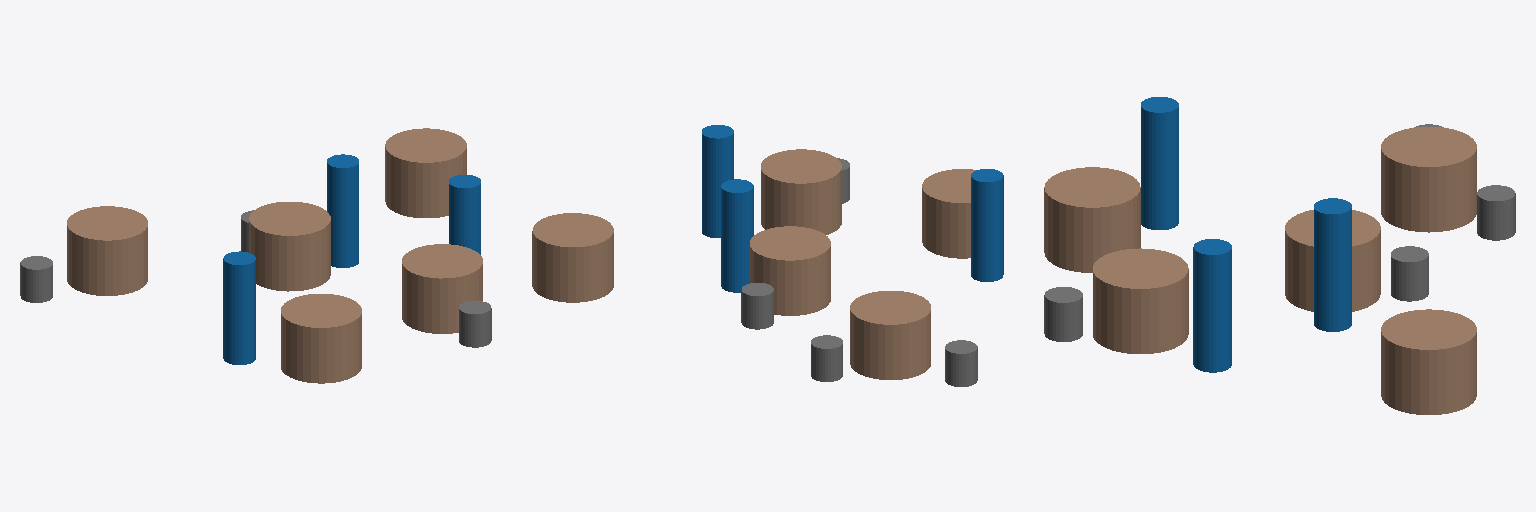
The robot description file, URDF, robot "Obstacles":
<?xml version="1.0" encoding="utf-8"?>
<robot name="Obstacles">
  <material name="table_color">
    <color rgba="0.686 0.553 0.459 1.0"/>
  </material>

  <material name="chair_color">
    <color rgba="0.5 0.5 0.5 1.0"/>
  </material>

  <material name="person_color">
    <color rgba="0.122 0.467 0.706 1.0"/>
  </material>

  <link name="obstacle_base_link"></link>

  <link name="table1_link">
    <visual>
      <origin rpy="0 0 0" xyz="1.5 1.0 0.375"/>
      <geometry>
        <cylinder length="0.75" radius="0.5"/>
      </geometry>
      <material name="table_color"/>
    </visual>
    <collision>
      <origin rpy="0 0 0" xyz="1.5 1.0 0.375"/>
      <geometry>
        <cylinder length="0.75" radius="0.5"/>
      </geometry>
    </collision>
  </link>
  <joint name="table1_link_joint" type="fixed">
    <parent link="obstacle_base_link"/>
    <child link="table1_link"/>
    <origin rpy="0 0 0" xyz="0 0 0"/>
  </joint>

  <link name="chair1_1_link">
    <visual>
      <origin rpy="0 0 0" xyz="0.5 1.0 0.225"/>
      <geometry>
        <cylinder length="0.45" radius="0.2"/>
      </geometry>
      <material name="chair_color"/>
    </visual>
    <collision>
      <origin rpy="0 0 0" xyz="0.5 1.0 0.225"/>
      <geometry>
        <cylinder length="0.45" radius="0.2"/>
      </geometry>
    </collision>
  </link>
  <joint name="chair1_1_link_joint" type="fixed">
    <parent link="obstacle_base_link"/>
    <child link="chair1_1_link"/>
    <origin rpy="0 0 0" xyz="0 0 0"/>
  </joint>

  <link name="chair1_2_link">
    <visual>
      <origin rpy="0 0 0" xyz="2.0 1.7 0.225"/>
      <geometry>
        <cylinder length="0.45" radius="0.2"/>
      </geometry>
      <material name="chair_color"/>
    </visual>
    <collision>
      <origin rpy="0 0 0" xyz="2.0 1.7 0.225"/>
      <geometry>
        <cylinder length="0.45" radius="0.2"/>
      </geometry>
    </collision>
  </link>
  <joint name="chair1_2_link_joint" type="fixed">
    <parent link="obstacle_base_link"/>
    <child link="chair1_2_link"/>
    <origin rpy="0 0 0" xyz="0 0 0"/>
  </joint>

  <link name="table2_link">
    <visual>
      <origin rpy="0 0 0" xyz="2.5 -2.5 0.375"/>
      <geometry>
        <cylinder length="0.75" radius="0.5"/>
      </geometry>
      <material name="table_color"/>
    </visual>
    <collision>
      <origin rpy="0 0 0" xyz="2.5 -2.5 0.375"/>
      <geometry>
        <cylinder length="0.75" radius="0.5"/>
      </geometry>
    </collision>
  </link>

  <joint name="table2_link_joint" type="fixed">
    <parent link="obstacle_base_link"/>
    <child link="table2_link"/>
    <origin rpy="0 0 0" xyz="0 0 0"/>
  </joint>

  <link name="chair2_1_link">
    <visual>
      <origin rpy="0 0 0" xyz="1.75 -1.8 0.675"/>
      <geometry>
        <cylinder length="1.35" radius="0.2"/>
      </geometry>
      <material name="person_color"/>
    </visual>
    <collision>
      <origin rpy="0 0 0" xyz="1.75 -1.8 0.675"/>
      <geometry>
        <cylinder length="1.35" radius="0.2"/>
      </geometry>
    </collision>
  </link>
  <joint name="chair2_1_link_joint" type="fixed">
    <parent link="obstacle_base_link"/>
    <child link="chair2_1_link"/>
    <origin rpy="0 0 0" xyz="0 0 0"/>
  </joint>

  <link name="table3_link">
    <visual>
      <origin rpy="0 0 0" xyz="3.5 0.0 0.375"/>
      <geometry>
        <cylinder length="0.75" radius="0.5"/>
      </geometry>
      <material name="table_color"/>
    </visual>
    <collision>
      <origin rpy="0 0 0" xyz="3.5 0.0 0.375"/>
      <geometry>
        <cylinder length="0.75" radius="0.5"/>
      </geometry>
    </collision>
  </link>

  <joint name="table3_link_joint" type="fixed">
    <parent link="obstacle_base_link"/>
    <child link="table3_link"/>
    <origin rpy="0 0 0" xyz="0 0 0"/>
  </joint>

  <link name="chair3_1_link">
    <visual>
      <origin rpy="0 0 0" xyz="4.25 0 0.675"/>
      <geometry>
        <cylinder length="1.35" radius="0.2"/>
      </geometry>
      <material name="person_color"/>
    </visual>
    <collision>
      <origin rpy="0 0 0" xyz="4.25 0 0.675"/>
      <geometry>
        <cylinder length="1.35" radius="0.2"/>
      </geometry>
    </collision>
  </link>
  <joint name="chair3_1_link_joint" type="fixed">
    <parent link="obstacle_base_link"/>
    <child link="chair3_1_link"/>
    <origin rpy="0 0 0" xyz="0 0 0"/>
  </joint>

  <!-- <link name="bar_link"> -->
  <!--   <visual> -->
  <!--     <origin rpy="0 0 0" xyz="3.5 -0.3 1.2"/> -->
  <!--     <geometry> -->
  <!--       <box size="0.2 1.0 0.2"/> -->
  <!--     </geometry> -->
  <!--     <material name="Blue"> -->
  <!--       <color rgba="0.0 0.0 1.0 1.0"/> -->
  <!--     </material> -->
  <!--   </visual> -->
  <!--   <collision> -->
  <!--     <origin rpy="0 0 0" xyz="3.5 -0.3 1.2"/> -->
  <!--     <geometry> -->
  <!--       <box size="0.2 1.0 0.2"/> -->
  <!--     </geometry> -->
  <!--   </collision> -->
  <!-- </link> -->
  <!-- <joint name="bar_link_joint" type="fixed"> -->
  <!--   <parent link="obstacle_base_link"/> -->
  <!--   <child link="bar_link"/> -->
  <!--   <origin rpy="0 0 0" xyz="0 0 0"/> -->
  <!-- </joint> -->

  <link name="chair3_2_link">
    <visual>
      <origin rpy="0 0 0" xyz="3.5 0.8 0.225"/>
      <geometry>
        <cylinder length="0.45" radius="0.2"/>
      </geometry>
      <material name="chair_color"/>
    </visual>
    <collision>
      <origin rpy="0 0 0" xyz="3.5 0.8 0.225"/>
      <geometry>
        <cylinder length="0.45" radius="0.2"/>
      </geometry>
    </collision>
  </link>
  <joint name="chair3_2_link_joint" type="fixed">
    <parent link="obstacle_base_link"/>
    <child link="chair3_2_link"/>
    <origin rpy="0 0 0" xyz="0 0 0"/>
  </joint>

  <link name="table4_link">
    <visual>
      <origin rpy="0 0 0" xyz="4.5 -2.0 0.375"/>
      <geometry>
        <cylinder length="0.75" radius="0.5"/>
      </geometry>
      <material name="table_color"/>
    </visual>
    <collision>
      <origin rpy="0 0 0" xyz="4.5 -2.0 0.375"/>
      <geometry>
        <cylinder length="0.75" radius="0.5"/>
      </geometry>
    </collision>
  </link>

  <joint name="table4_link_joint" type="fixed">
    <parent link="obstacle_base_link"/>
    <child link="table4_link"/>
    <origin rpy="0 0 0" xyz="0 0 0"/>
  </joint>

  <link name="chair4_1_link">
    <visual>
      <origin rpy="0 0 0" xyz="4.5 -2.8 0.225"/>
      <geometry>
        <cylinder length="0.45" radius="0.2"/>
      </geometry>
      <material name="chair_color"/>
    </visual>
    <collision>
      <origin rpy="0 0 0" xyz="4.5 -2.8 0.225"/>
      <geometry>
        <cylinder length="0.45" radius="0.2"/>
      </geometry>
    </collision>
  </link>
  <joint name="chair4_1_link_joint" type="fixed">
    <parent link="obstacle_base_link"/>
    <child link="chair4_1_link"/>
    <origin rpy="0 0 0" xyz="0 0 0"/>
  </joint>

  <link name="chair4_2_link">
    <visual>
      <origin rpy="0 0 0" xyz="5.25 -1.25 0.675"/>
      <geometry>
        <cylinder length="1.35" radius="0.2"/>
      </geometry>
      <material name="person_color"/>
    </visual>
    <collision>
      <origin rpy="0 0 0" xyz="5.25 -1.25 0.675"/>
      <geometry>
        <cylinder length="1.35" radius="0.2"/>
      </geometry>
    </collision>
  </link>
  <joint name="chair4_2_link_joint" type="fixed">
    <parent link="obstacle_base_link"/>
    <child link="chair4_2_link"/>
    <origin rpy="0 0 0" xyz="0 0 0"/>
  </joint>

  <link name="table5_link">
    <visual>
      <origin rpy="0 0 0" xyz="6.0 1.0 0.375"/>
      <geometry>
        <cylinder length="0.75" radius="0.5"/>
      </geometry>
      <material name="table_color"/>
    </visual>
    <collision>
      <origin rpy="0 0 0" xyz="6.0 1.0 0.375"/>
      <geometry>
        <cylinder length="0.75" radius="0.5"/>
      </geometry>
    </collision>
  </link>

  <joint name="table5_link_joint" type="fixed">
    <parent link="obstacle_base_link"/>
    <child link="table5_link"/>
    <origin rpy="0 0 0" xyz="0 0 0"/>
  </joint>

  <!-- <link name="chair5_1_link"> -->
  <!--   <visual> -->
  <!--     <origin rpy="0 0 0" xyz="6.0 0.0 0.225"/> -->
  <!--     <geometry> -->
  <!--       <cylinder length="0.45" radius="0.2"/> -->
  <!--     </geometry> -->
  <!--     <material name="Red"> -->
  <!--       <color rgba="1.0 0.0 0.0 1.0"/> -->
  <!--     </material> -->
  <!--   </visual> -->
  <!--   <collision> -->
  <!--     <origin rpy="0 0 0" xyz="6.0 0.0 0.225"/> -->
  <!--     <geometry> -->
  <!--       <cylinder length="0.45" radius="0.2"/> -->
  <!--     </geometry> -->
  <!--   </collision> -->
  <!-- </link> -->
  <!-- <joint name="chair5_1_link_joint" type="fixed"> -->
  <!--   <parent link="obstacle_base_link"/> -->
  <!--   <child link="chair5_1_link"/> -->
  <!--   <origin rpy="0 0 0" xyz="0 0 0"/> -->
  <!-- </joint> -->

</robot>

--- Facts derived from the render (not from the file) ---
The picture shows the robot from 3 angles, left to right: view 1: azimuth 30°, elevation 25°; view 2: azimuth 150°, elevation 25°; view 3: azimuth 270°, elevation 25°; orthographic projection.
Model Obstacles with 13 links and 12 joints (12 fixed), rooted at obstacle_base_link, posed all joints at 0.
Visible links, largest first — view 1: table1_link, table2_link, table3_link, table5_link, table4_link, chair2_1_link, chair3_1_link, chair4_2_link, chair1_1_link, chair4_1_link; view 2: table5_link, table1_link, table4_link, table3_link, table2_link, chair2_1_link, chair3_1_link, chair4_2_link, chair1_1_link, chair3_2_link, chair1_2_link; view 3: table5_link, table1_link, table4_link, table2_link, table3_link, chair4_2_link, chair3_1_link, chair2_1_link, chair1_2_link, chair4_1_link, chair3_2_link.
Link boxes in pixels (left/top/right/bottom): table1_link: left=67, top=206, right=147, bottom=295; table2_link: left=281, top=294, right=361, bottom=383; table3_link: left=249, top=202, right=330, bottom=291; table5_link: left=385, top=128, right=466, bottom=217; table4_link: left=402, top=244, right=482, bottom=333; chair2_1_link: left=223, top=251, right=255, bottom=364; chair3_1_link: left=327, top=154, right=358, bottom=267; chair4_2_link: left=449, top=175, right=480, bottom=254; chair1_1_link: left=20, top=256, right=52, bottom=302; chair4_1_link: left=459, top=301, right=491, bottom=347; table5_link: left=532, top=213, right=613, bottom=302; table1_link: left=850, top=291, right=930, bottom=379; table4_link: left=761, top=149, right=841, bottom=234; table3_link: left=750, top=226, right=830, bottom=315; table2_link: left=922, top=169, right=975, bottom=258; chair2_1_link: left=971, top=169, right=1003, bottom=281; chair3_1_link: left=721, top=179, right=753, bottom=292; chair4_2_link: left=702, top=125, right=733, bottom=237; chair1_1_link: left=945, top=340, right=977, bottom=386; chair3_2_link: left=741, top=283, right=773, bottom=329; chair1_2_link: left=811, top=335, right=842, bottom=381; table5_link: left=1381, top=309, right=1476, bottom=414; table1_link: left=1381, top=127, right=1476, bottom=232; table4_link: left=1093, top=248, right=1188, bottom=353; table2_link: left=1044, top=167, right=1140, bottom=272; table3_link: left=1285, top=210, right=1380, bottom=311; chair4_2_link: left=1193, top=239, right=1231, bottom=372; chair3_1_link: left=1314, top=198, right=1351, bottom=331; chair2_1_link: left=1141, top=97, right=1178, bottom=229; chair1_2_link: left=1477, top=185, right=1515, bottom=240; chair4_1_link: left=1044, top=287, right=1082, bottom=341; chair3_2_link: left=1391, top=246, right=1428, bottom=301.
Bounding box of the posed robot: 6.2 × 4.9 × 1.35 m (x, y, z).
Geometry: primitives only (box / cylinder / sphere), no mesh files.